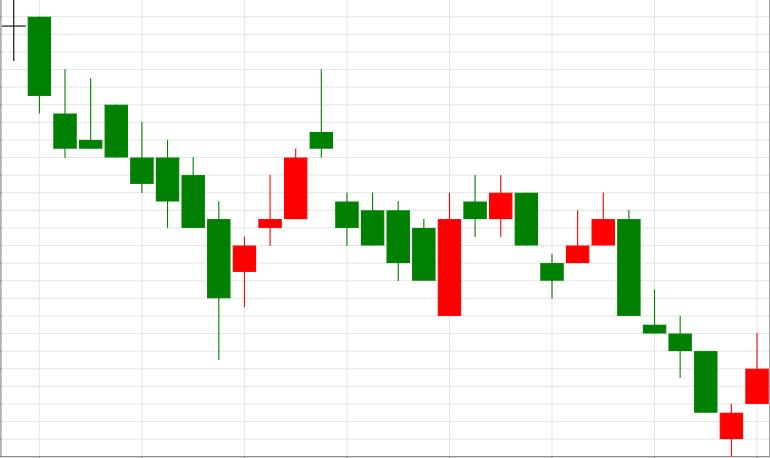bullish_engulfing_rise: (310, 68, 461, 316)
evening_star_fall: (207, 68, 358, 360)
